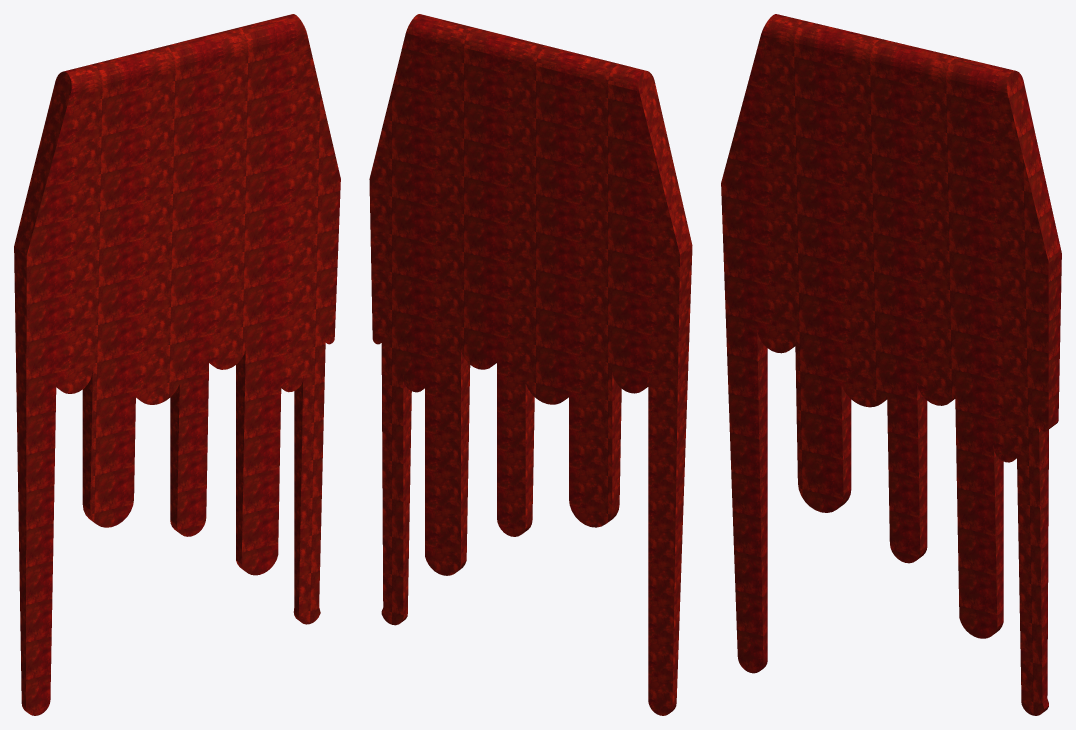
Rendered from Sang.dae.
3 renders of one model, left to right at view 1: azimuth 30°, elevation 25°; view 2: azimuth 150°, elevation 25°; view 3: azimuth 330°, elevation 25°, orthographic. The views are drawn at different scales.
Parts seen in each view (by area): view 1: group_0; view 2: group_0; view 3: group_0.
Boxes of the visible parts, <box> form: group_0: <box>14,14,340,715</box>; group_0: <box>369,14,692,715</box>; group_0: <box>721,14,1061,715</box>.
Size of the model in its own units: 16.97 by 1.45 by 33.09.
